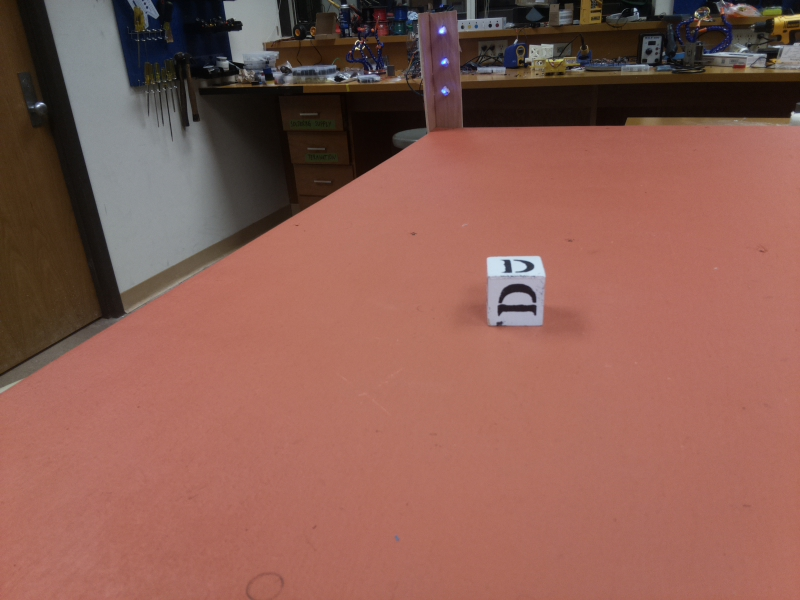blockD: (482, 256, 548, 328)
corner: (414, 10, 468, 131)
